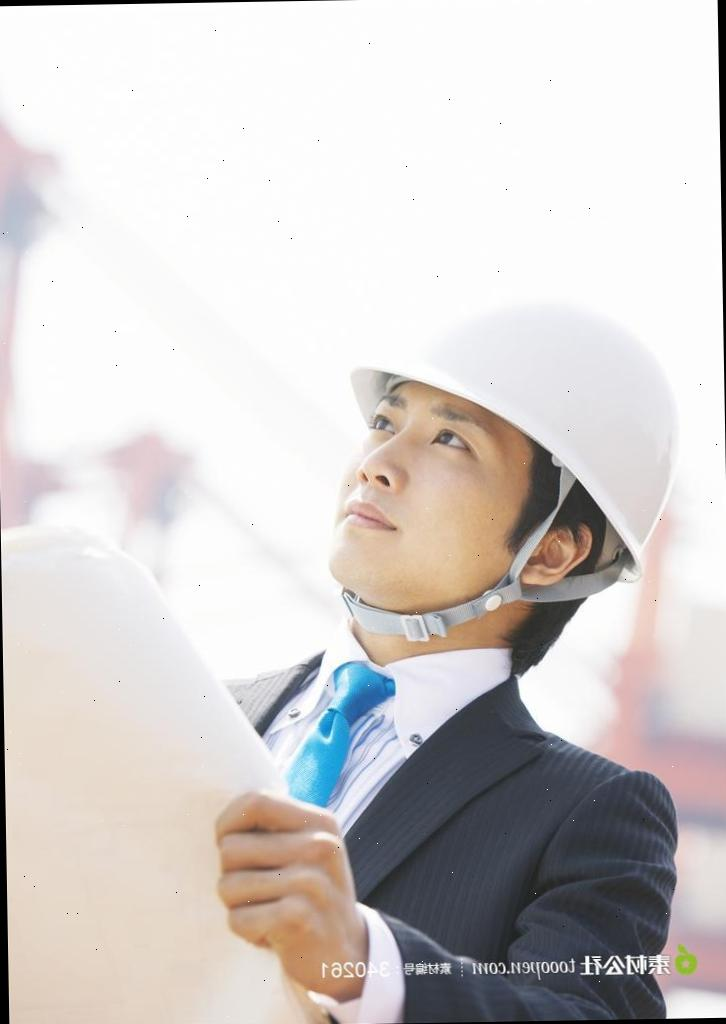helmet: (336, 291, 691, 594)
no_wear: (212, 668, 683, 866)
